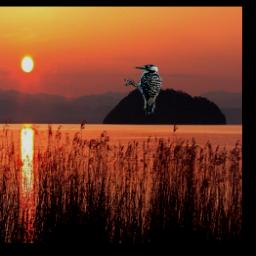Woodpecker: (123, 65, 163, 116)
